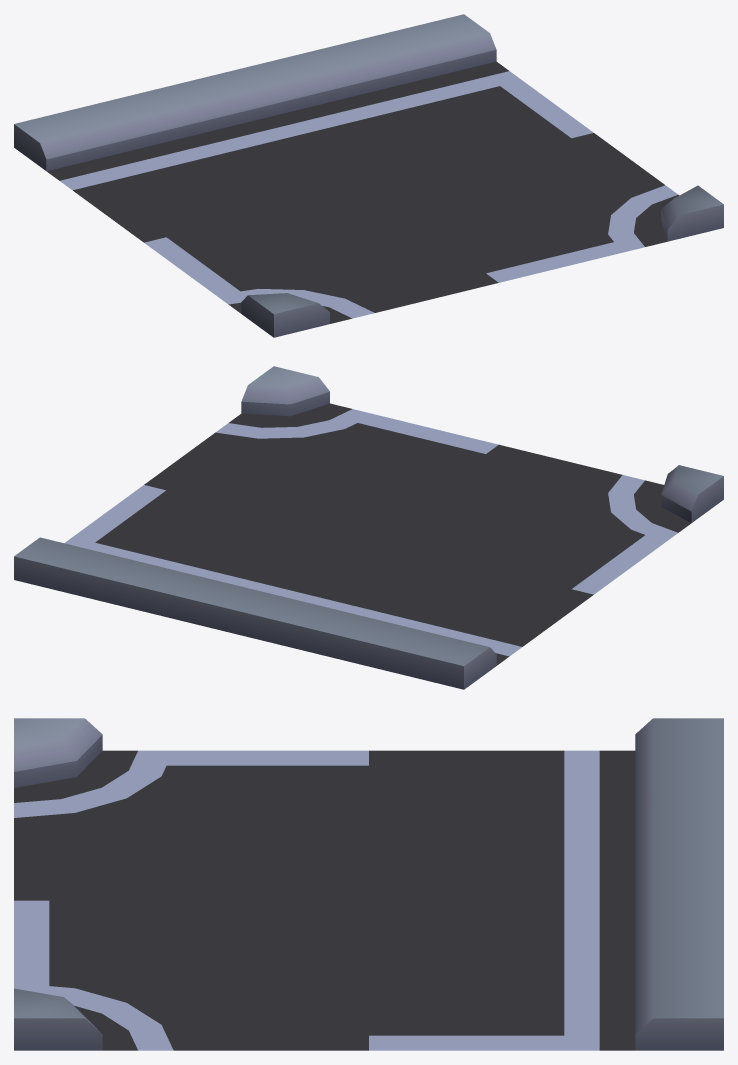
Rendered from road-split.glb.
3 views of the same model, one above another, from view 1: azimuth 30°, elevation 25°; view 2: azimuth 150°, elevation 25°; view 3: azimuth 270°, elevation 25° (orthographic). The views are drawn at different scales.
Parts seen in each view (by area): view 1: road-split; view 2: road-split; view 3: road-split.
Boxes of the visible parts, left/top/right/bottom form: road-split: left=14, top=14, right=723, bottom=337; road-split: left=14, top=366, right=723, bottom=689; road-split: left=14, top=718, right=723, bottom=1050.
Bounding box in the file's own units: 1 × 0.0501 × 1.
Materials: 1 (1 with a texture image).
